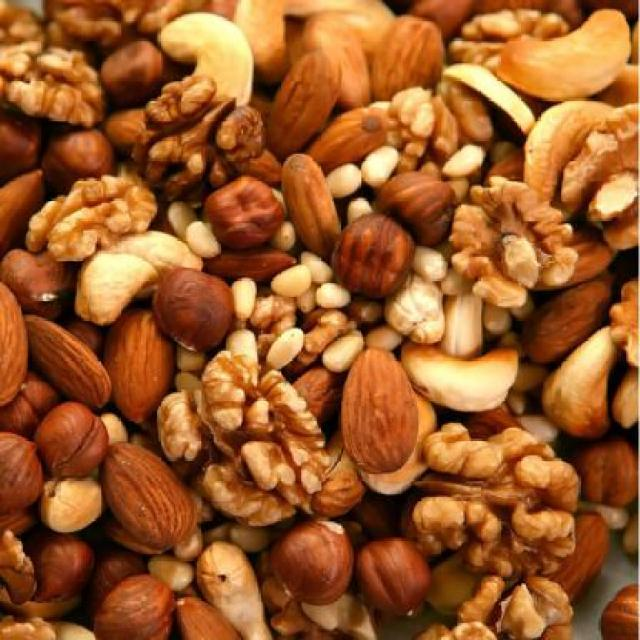Frutta secca: (14, 10, 632, 632)
